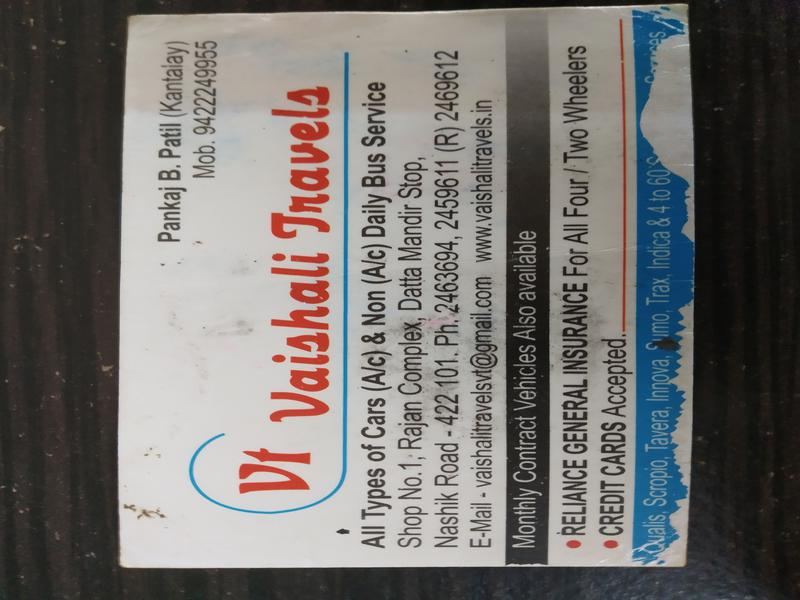card: (121, 3, 694, 568)
